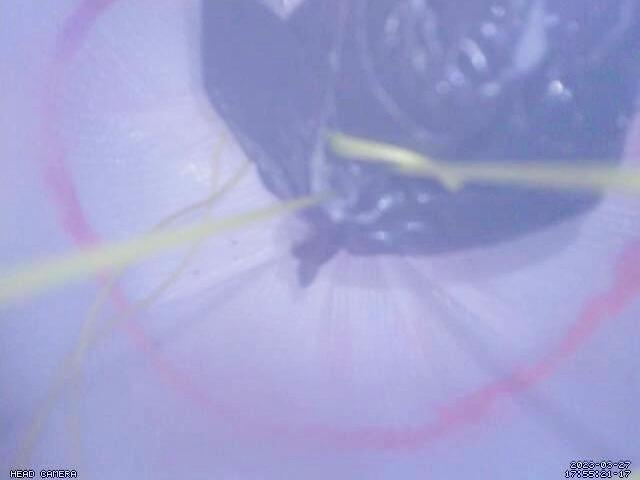head: (33, 0, 640, 454)
